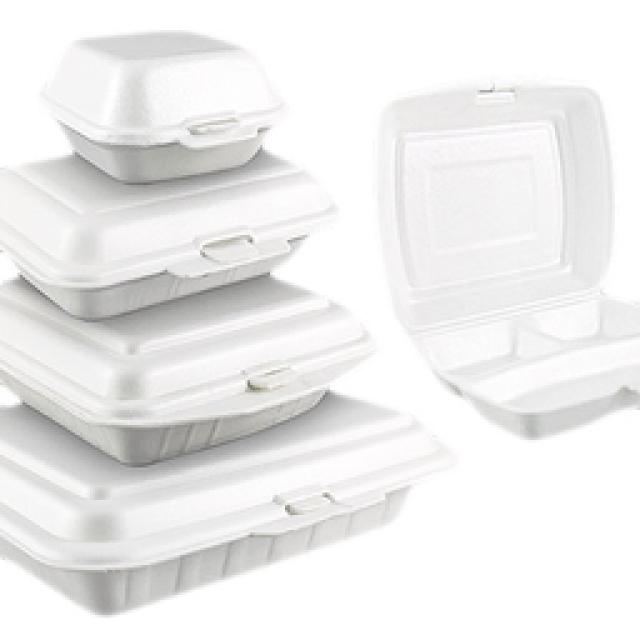styrofoam: (0, 32, 372, 466), (0, 389, 461, 620), (379, 86, 640, 438)
